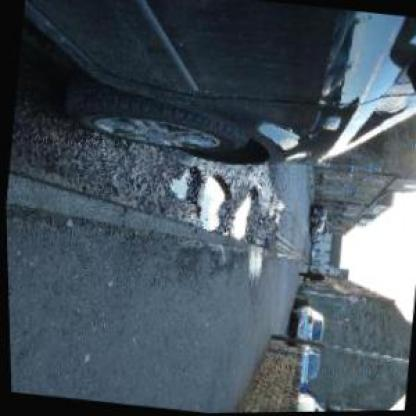pothole: (223, 184, 262, 246), (192, 175, 232, 234), (165, 165, 200, 205)
